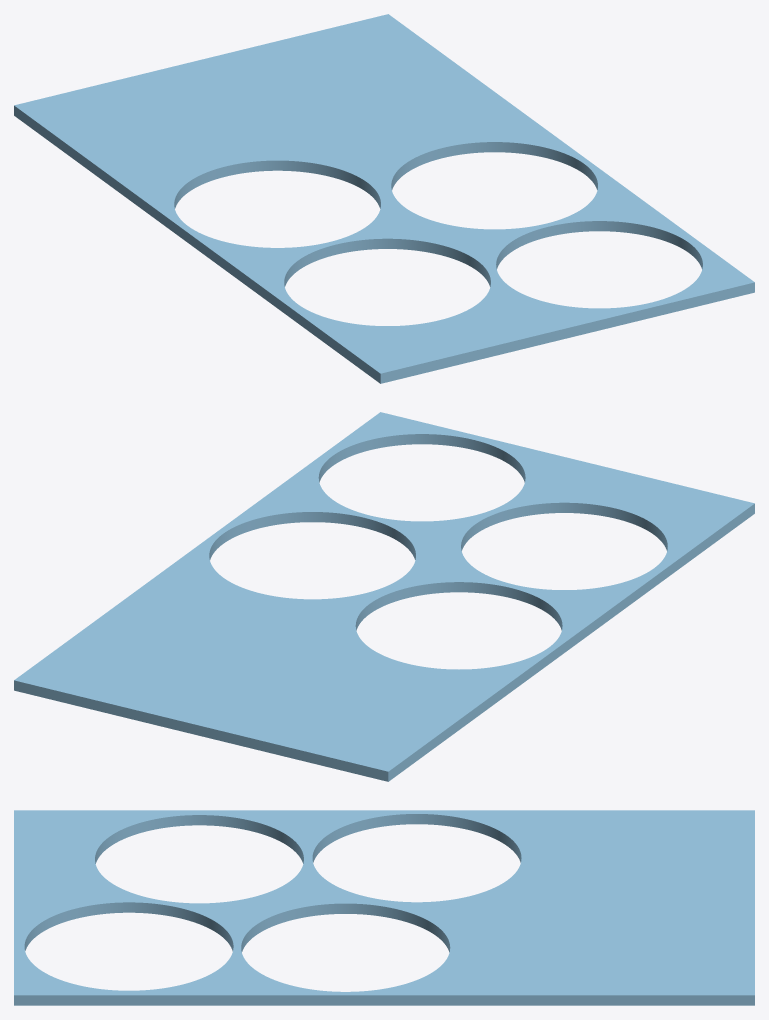
File: obstacle_one_fb.obj
3 views of the same model, one above another, from view 1: azimuth 30°, elevation 25°; view 2: azimuth 150°, elevation 25°; view 3: azimuth 270°, elevation 25° (orthographic).
Size of the model in its own units: 0.575 by 0.015 by 0.975.
